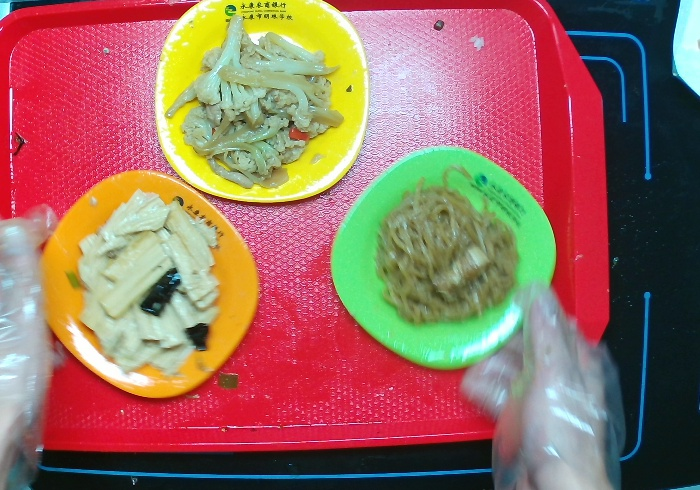YKMZ-Huang_Se_Fang_Die: (155, 1, 369, 205)
YKMZ-Ju_Se_Fang_Die: (27, 171, 261, 398)
YKMZ-Lv_Se_Fang_Die: (328, 142, 560, 368)
